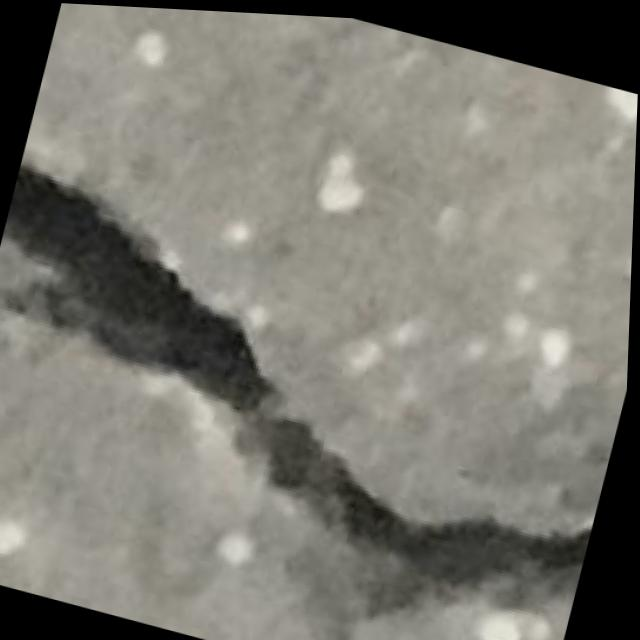Crack: (0, 150, 636, 612)
